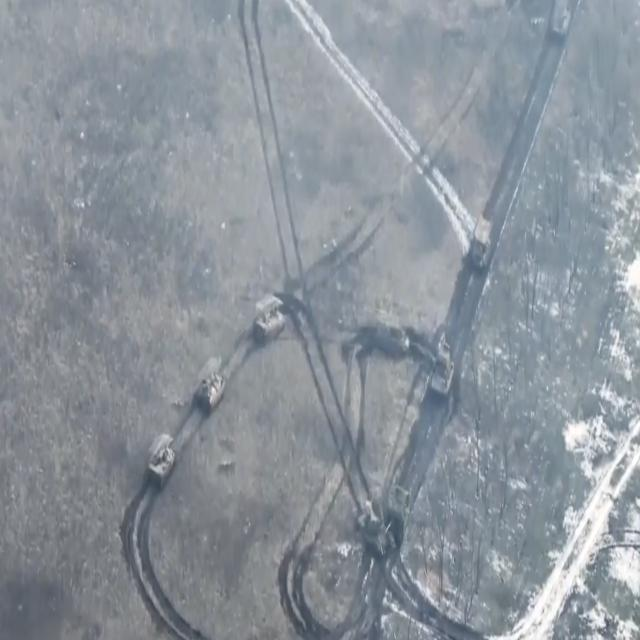vehicle: (359, 503, 394, 567), (254, 282, 286, 348), (195, 352, 228, 414), (147, 429, 177, 494), (376, 309, 410, 362), (430, 339, 458, 402), (468, 209, 495, 273), (386, 480, 409, 546), (547, 0, 571, 46)
